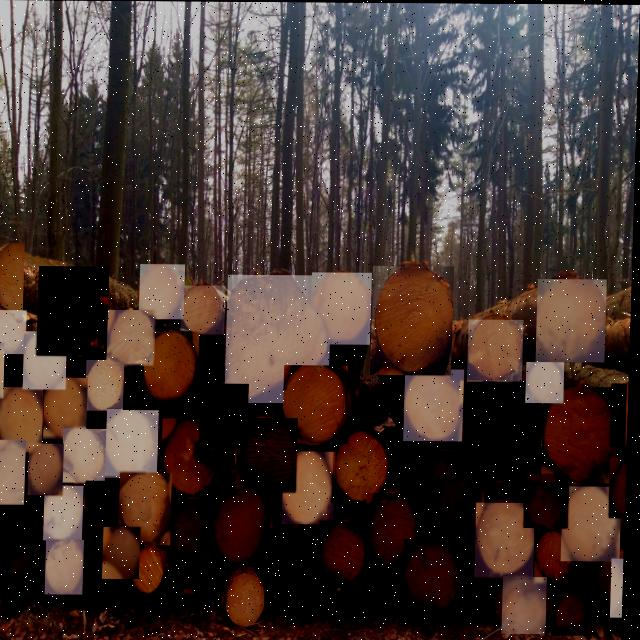wood-log: (227, 274, 334, 403), (372, 265, 456, 375), (460, 380, 545, 480), (544, 386, 620, 483), (414, 450, 487, 541), (39, 266, 111, 356), (538, 278, 609, 362), (285, 365, 353, 443), (564, 485, 625, 561), (478, 502, 538, 579), (239, 417, 300, 492), (406, 539, 467, 613), (218, 488, 275, 567), (406, 369, 467, 441), (313, 272, 374, 344), (164, 418, 219, 495), (269, 528, 325, 600), (145, 331, 201, 402), (285, 451, 339, 524), (335, 433, 391, 503), (121, 473, 175, 545), (0, 505, 45, 590), (368, 492, 421, 563), (108, 410, 161, 478), (469, 319, 526, 381), (322, 521, 370, 587), (202, 383, 251, 447), (170, 499, 217, 563), (0, 387, 46, 452), (109, 310, 158, 366), (46, 378, 90, 440), (505, 576, 551, 633), (25, 331, 69, 389), (141, 264, 187, 319), (226, 569, 269, 627), (527, 473, 572, 527), (65, 428, 109, 483), (46, 485, 87, 541), (538, 528, 580, 582), (48, 540, 88, 596), (182, 285, 227, 334), (87, 360, 127, 412), (0, 243, 26, 323), (0, 440, 29, 511), (555, 582, 593, 634), (106, 527, 144, 579), (31, 443, 67, 495), (136, 545, 173, 594), (528, 361, 567, 402), (88, 481, 122, 525), (0, 311, 29, 355), (187, 555, 217, 593), (613, 383, 631, 446), (612, 457, 629, 517), (614, 558, 627, 617), (0, 342, 7, 398)
